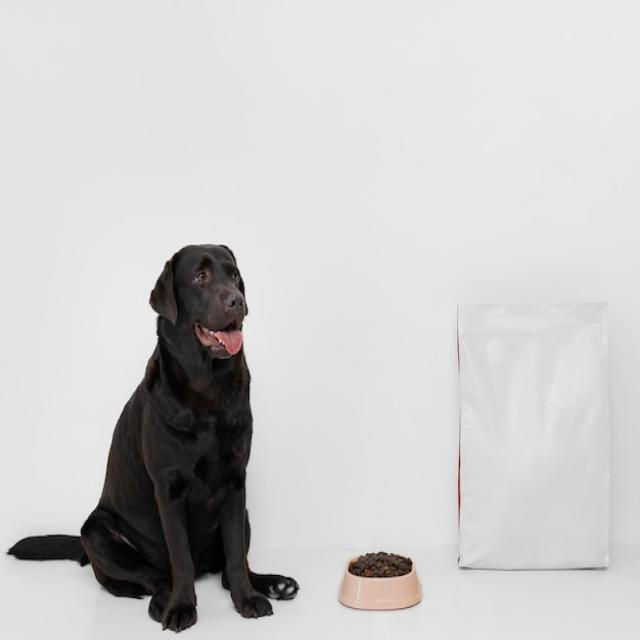Dog: (6, 243, 298, 632)
